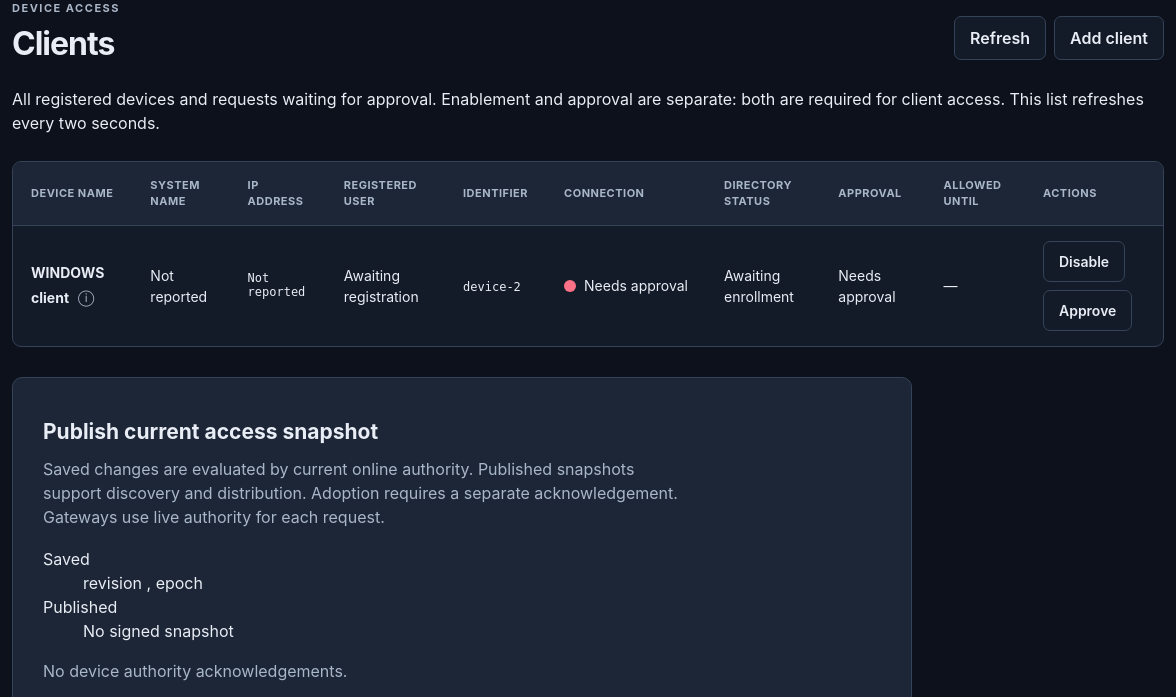
Test case: Device management › approves a pending device explicitly for unlimited time without a deadline
The image size is (1176, 697).
Click the button with aria-label "Approve device-2".
click(1088, 310)  # box top-left (1043, 290), bottom-right (1132, 331)
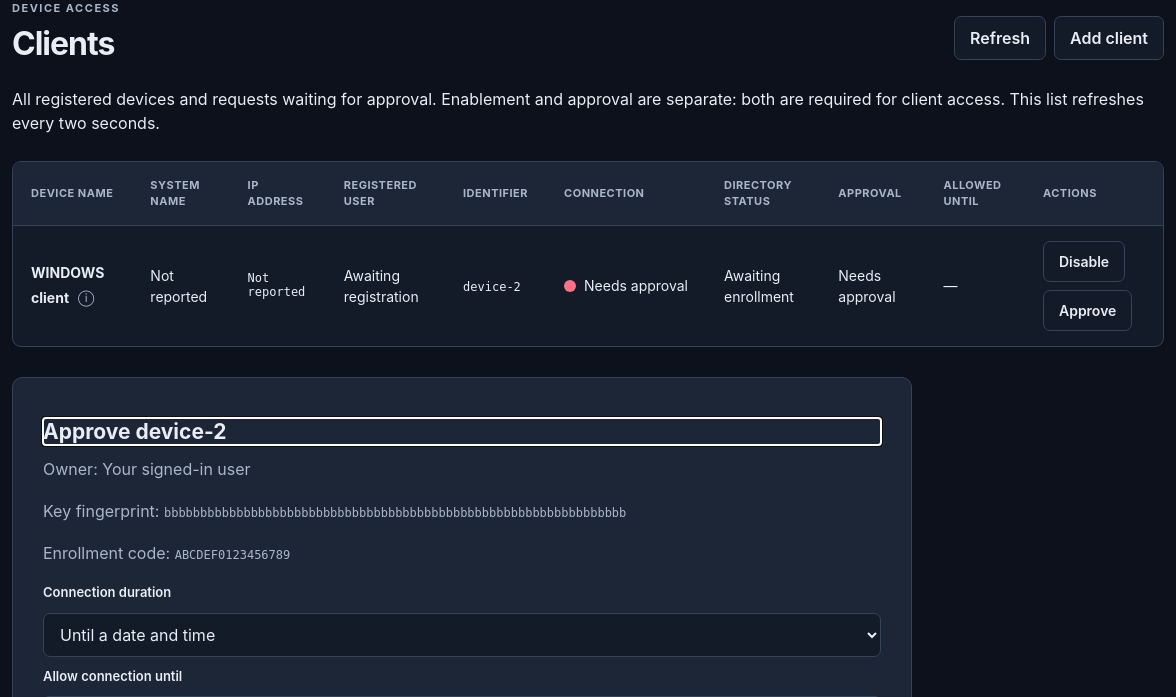
Select "Unlimited time" in the dropdown labelled "Connection duration" at (462, 635), box top-left (43, 613), bottom-right (881, 657)
(page scrolled)
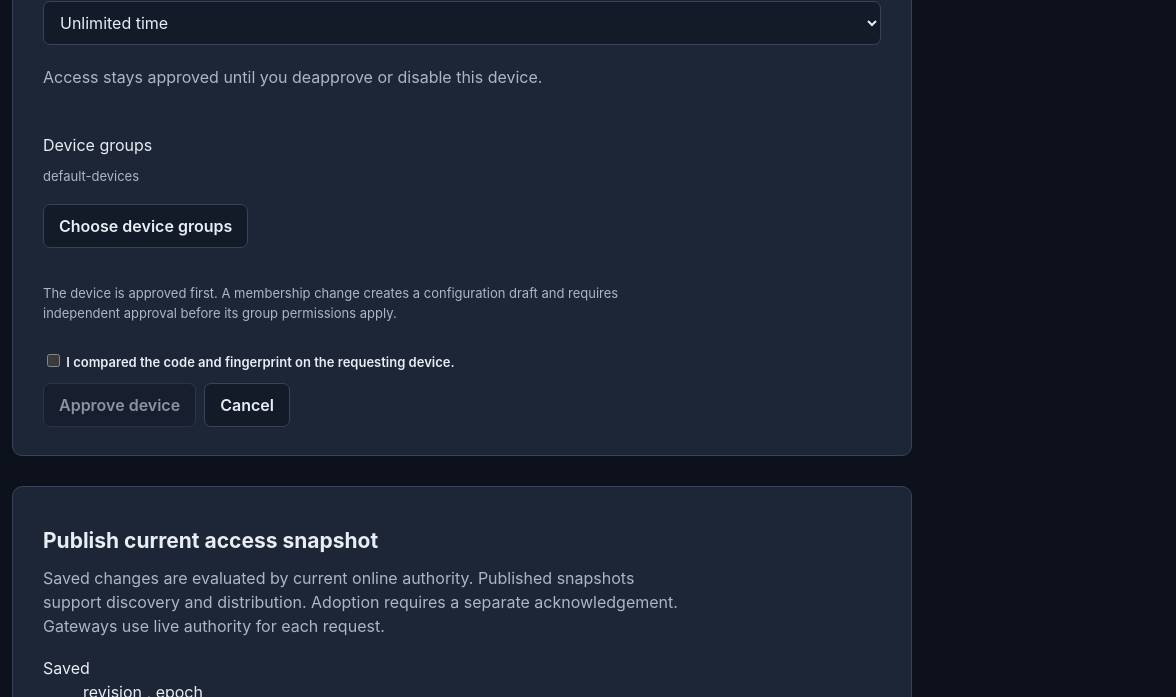
Now the button "Approve device" is disabled, box top-left (43, 383), bottom-right (196, 427)
Now the label labelled "Allow connection until" is gone
Click the checkbox.
click(54, 361)  # box top-left (47, 354), bottom-right (60, 367)
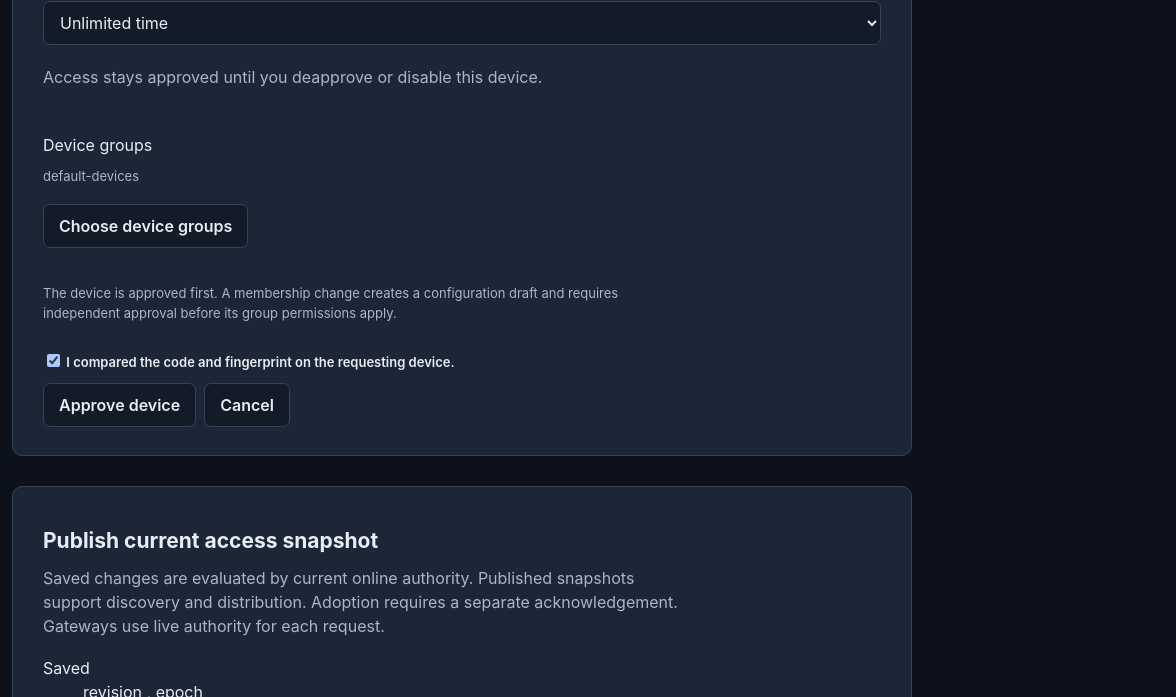
Click the button "Approve device".
click(120, 405)  # box top-left (43, 383), bottom-right (196, 427)
(page scrolled)
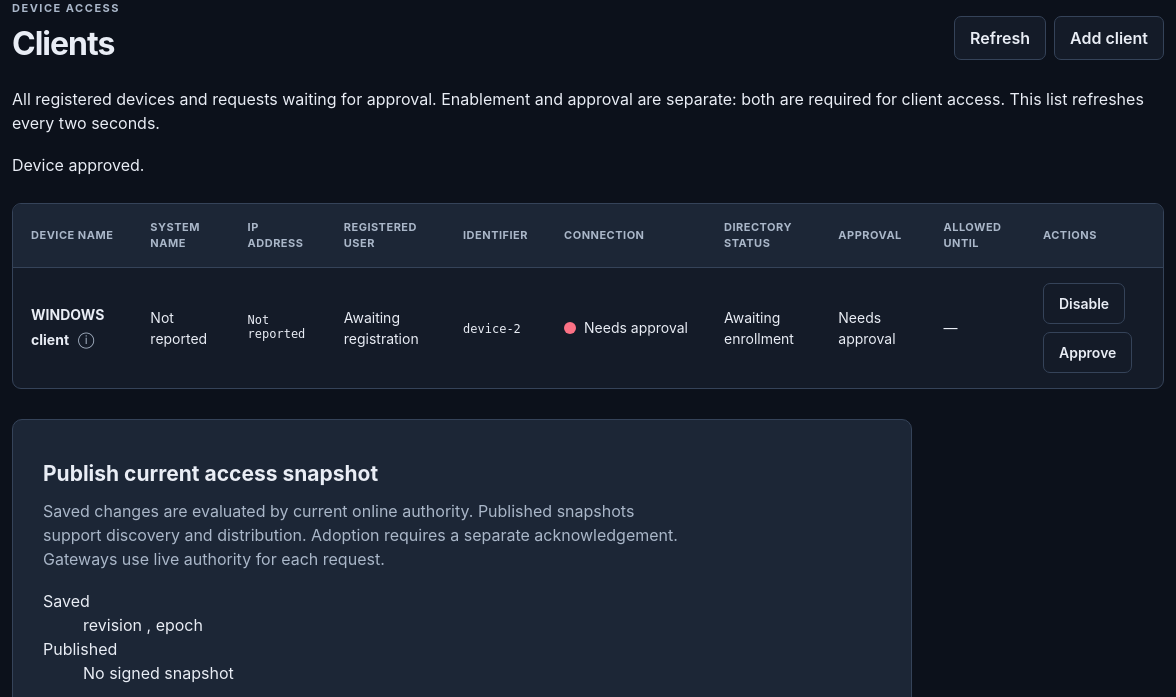
Now the text "Device approved." is shown, box top-left (12, 155), bottom-right (144, 175)
